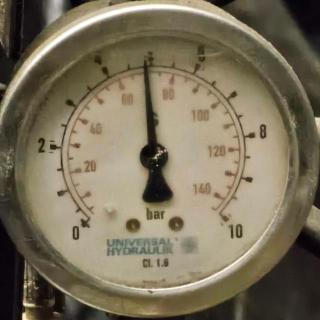gauge: (6, 22, 305, 307), (198, 196, 246, 244), (63, 202, 104, 245), (138, 141, 170, 171), (139, 53, 153, 71)
